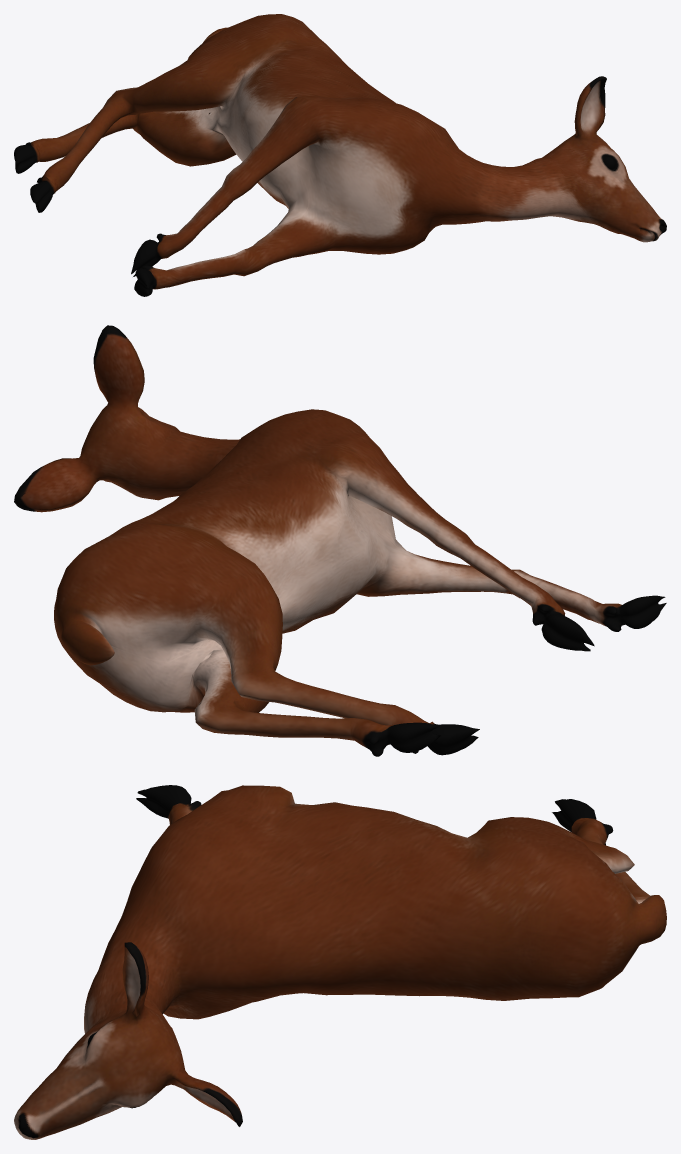
The model's file is deer_dead.obj.
3 renders of one model, top to bottom at view 1: azimuth 30°, elevation 25°; view 2: azimuth 150°, elevation 25°; view 3: azimuth 270°, elevation 25°, orthographic. The views are drawn at different scales.
Parts seen in each view (by area): view 1: deer_mesh_dead; view 2: deer_mesh_dead; view 3: deer_mesh_dead.
Part boxes in pixels (x1,y1,x2,y2): deer_mesh_dead: (14,14,666,296); deer_mesh_dead: (14,325,666,756); deer_mesh_dead: (14,785,666,1139).
Size of the model in its own units: 33.83 by 9.33 by 29.56.
1 material, 1 textured.
